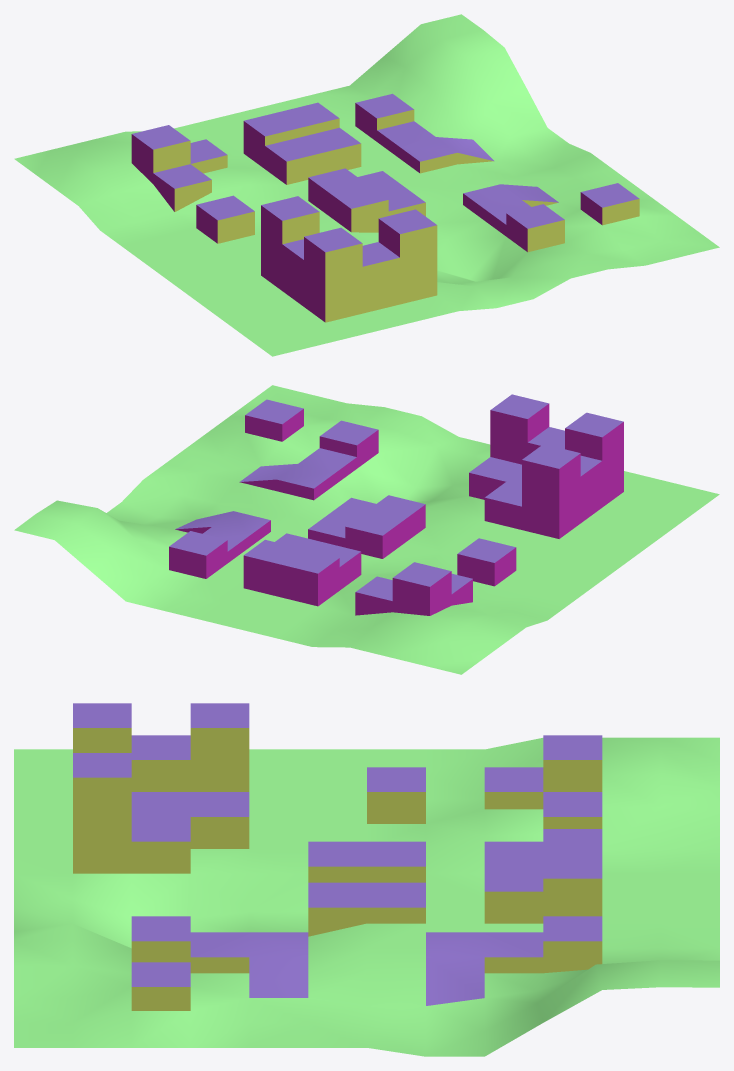
Rendered from Demo_Level.FBX.
3 renders of one model, top to bottom at view 1: azimuth 30°, elevation 25°; view 2: azimuth 150°, elevation 25°; view 3: azimuth 270°, elevation 25°, orthographic. The views are drawn at different scales.
Parts seen in each view (by area): view 1: Demo_World; view 2: Demo_World; view 3: Demo_World.
Boxes of the visible parts, x1,y1,x2,y2 form: Demo_World: (14, 14, 719, 356); Demo_World: (14, 385, 719, 674); Demo_World: (14, 703, 719, 1056).
Bounding box in the file's own units: 10160 × 2248 × 10160.
